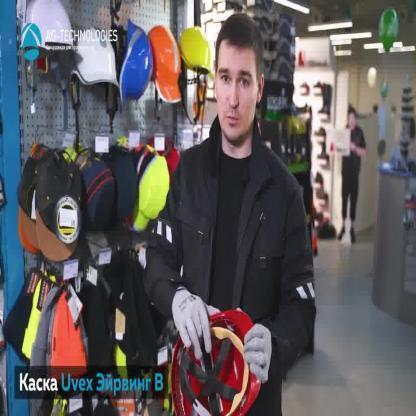gloves: (172, 288, 221, 360), (244, 324, 274, 384)
helmet: (170, 307, 263, 415), (118, 19, 154, 113), (70, 25, 119, 87), (146, 24, 183, 104), (23, 0, 78, 53), (178, 25, 214, 76)
